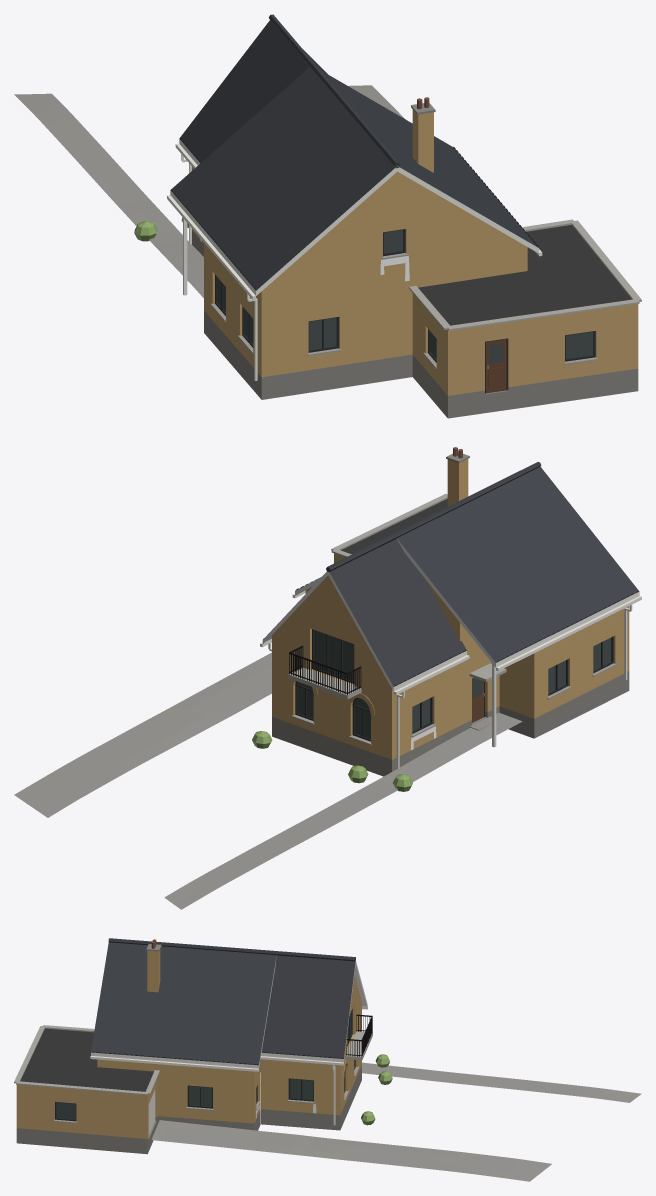
Rendered from vh_arch_villa.glb.
The picture shows the model from 3 angles, top to bottom: view 1: azimuth 30°, elevation 25°; view 2: azimuth 150°, elevation 25°; view 3: azimuth 270°, elevation 25°; orthographic projection. The views are drawn at different scales.
Visible parts, largest first — view 1: vh_brick, vh_roof, vh_stone, vh_paving, vh_trim, vh_frames_small, vh_glass; view 2: vh_roof, vh_brick, vh_paving, vh_stone, vh_glass, vh_frames_small, vh_trim, vh_metal_small, vh_hedge; view 3: vh_roof, vh_brick, vh_paving, vh_stone, vh_frames_small, vh_trim, vh_glass, vh_metal_small, vh_hedge.
Boxes of the visible parts, bbox=[...] form: vh_brick: bbox=[192, 109, 638, 395]; vh_roof: bbox=[171, 14, 538, 290]; vh_stone: bbox=[192, 97, 641, 418]; vh_paving: bbox=[14, 85, 404, 297]; vh_trim: bbox=[170, 138, 538, 393]; vh_frames_small: bbox=[167, 143, 595, 393]; vh_glass: bbox=[217, 230, 593, 363]; vh_roof: bbox=[326, 462, 638, 686]; vh_brick: bbox=[272, 459, 629, 759]; vh_paving: bbox=[14, 652, 522, 909]; vh_stone: bbox=[272, 447, 629, 776]; vh_glass: bbox=[296, 630, 611, 739]; vh_frames_small: bbox=[260, 591, 641, 769]; vh_trim: bbox=[262, 538, 639, 747]; vh_metal_small: bbox=[289, 645, 484, 696]; vh_hedge: bbox=[252, 731, 412, 791]; vh_roof: bbox=[91, 938, 355, 1064]; vh_brick: bbox=[16, 949, 361, 1138]; vh_paving: bbox=[151, 1062, 641, 1181]; vh_stone: bbox=[14, 939, 372, 1154]; vh_frames_small: bbox=[55, 1006, 367, 1127]; vh_trim: bbox=[91, 957, 367, 1135]; vh_glass: bbox=[56, 1012, 351, 1119]; vh_metal_small: bbox=[346, 1014, 372, 1056]; vh_hedge: bbox=[361, 1054, 392, 1125].
Bounding box in the file's own units: 17.46 × 9.95 × 33.73.
